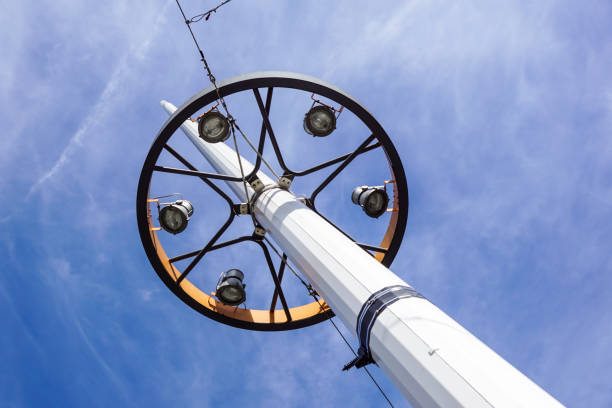light_pole: (252, 185, 568, 408)
